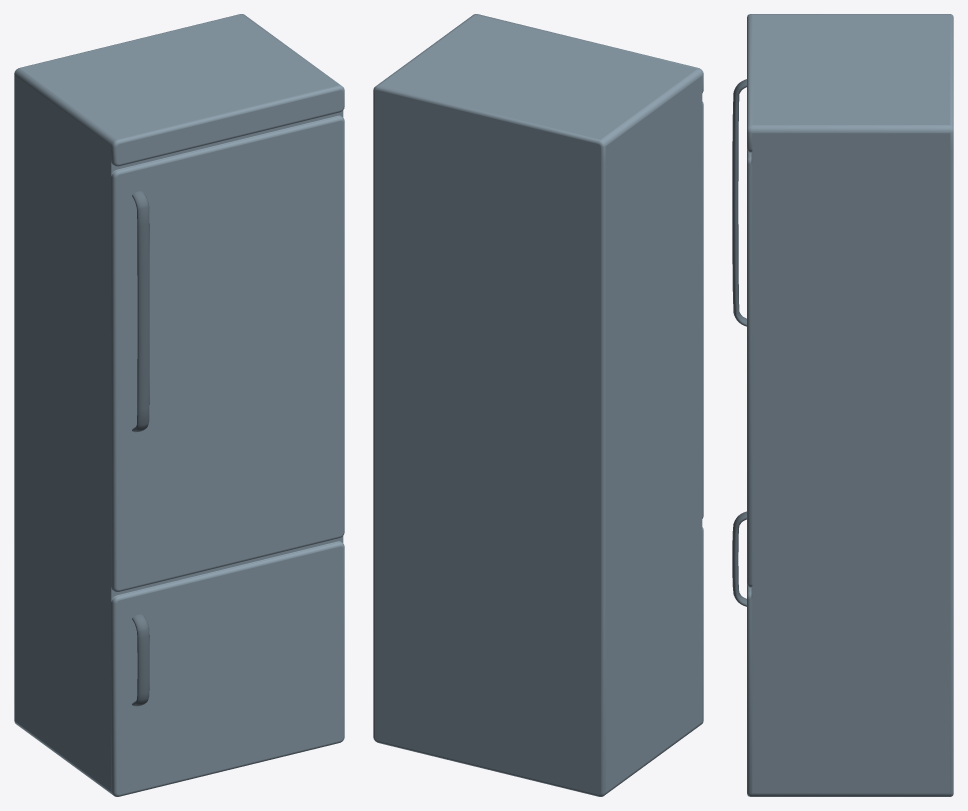
File: Muzlatgich.fbx
3 renders of one model, left to right at view 1: azimuth 30°, elevation 25°; view 2: azimuth 150°, elevation 25°; view 3: azimuth 270°, elevation 25°, orthographic. The views are drawn at different scales.
Visible parts, largest first — view 1: Plane.015; view 2: Plane.015; view 3: Plane.015.
Part boxes in pixels (x1,y1,x2,y2): Plane.015: [14, 14, 344, 796]; Plane.015: [373, 14, 703, 796]; Plane.015: [732, 14, 953, 796].
Size of the model in its own units: 200 by 541 by 162.
Materials: 1 (1 with a texture image).
